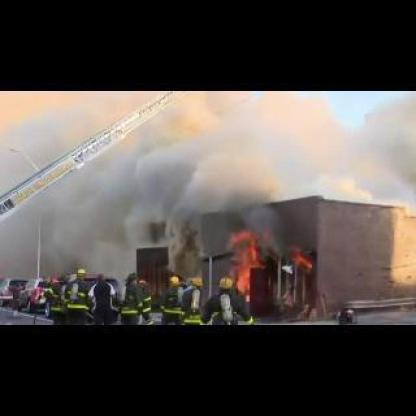fire: (228, 225, 271, 298), (289, 239, 317, 271)
